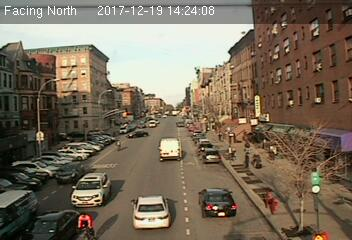bicycle: (75, 213, 98, 240)
car: (15, 206, 78, 240), (130, 195, 173, 230), (71, 173, 111, 208), (197, 186, 237, 219), (55, 162, 85, 182), (201, 149, 222, 163)
truck: (157, 136, 180, 159)
